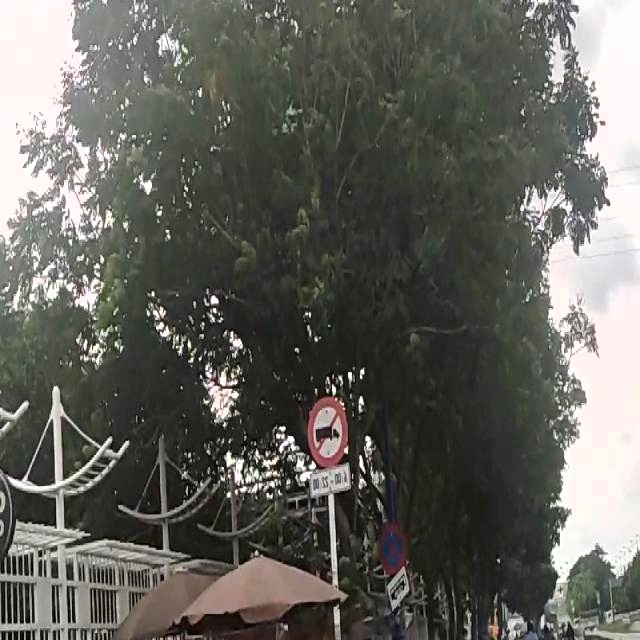B.8a: (309, 400, 351, 496)
